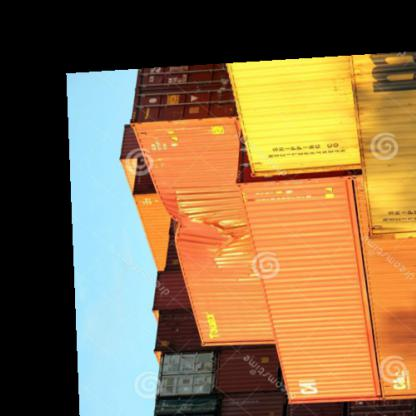Damage: (166, 200, 242, 264)
